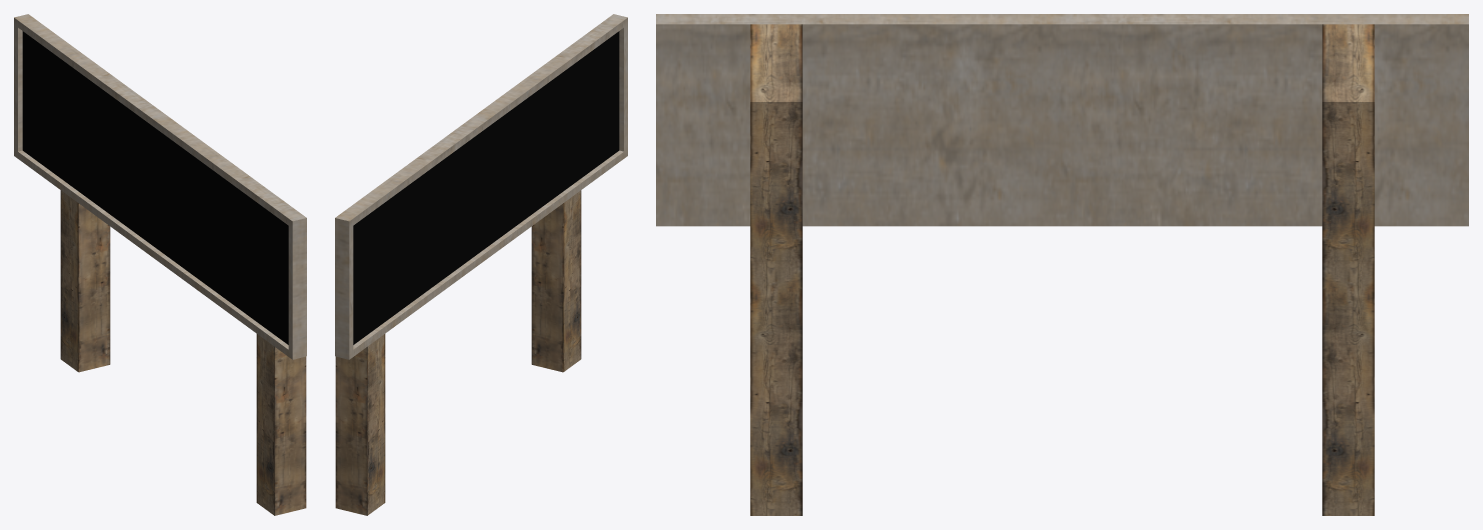
Rendered from test_sign.glb.
The picture shows the model from 3 angles, left to right: view 1: azimuth 30°, elevation 25°; view 2: azimuth 150°, elevation 25°; view 3: azimuth 270°, elevation 25°; orthographic projection. The views are drawn at different scales.
Parts seen in each view (by area): view 1: sign_board_polygon, Cube.001, Cube; view 2: sign_board_polygon, Cube.001, Cube; view 3: Cube, Cube.001.
Boxes of the visible parts, x1,y1,x2,y2 form: sign_board_polygon: (22, 31, 288, 344); Cube.001: (60, 190, 306, 515); Cube: (14, 14, 306, 359); sign_board_polygon: (353, 31, 619, 344); Cube.001: (335, 190, 581, 515); Cube: (335, 14, 627, 359); Cube: (656, 14, 1468, 226); Cube.001: (750, 24, 1374, 515).
Bounding box in the file's own units: 0.1906 × 1.27 × 2.
3 materials, 3 textured.
